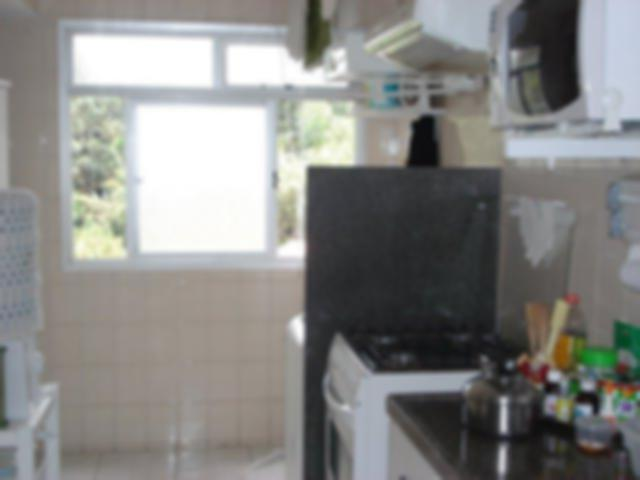Electrodomestico: (332, 331, 388, 479)
